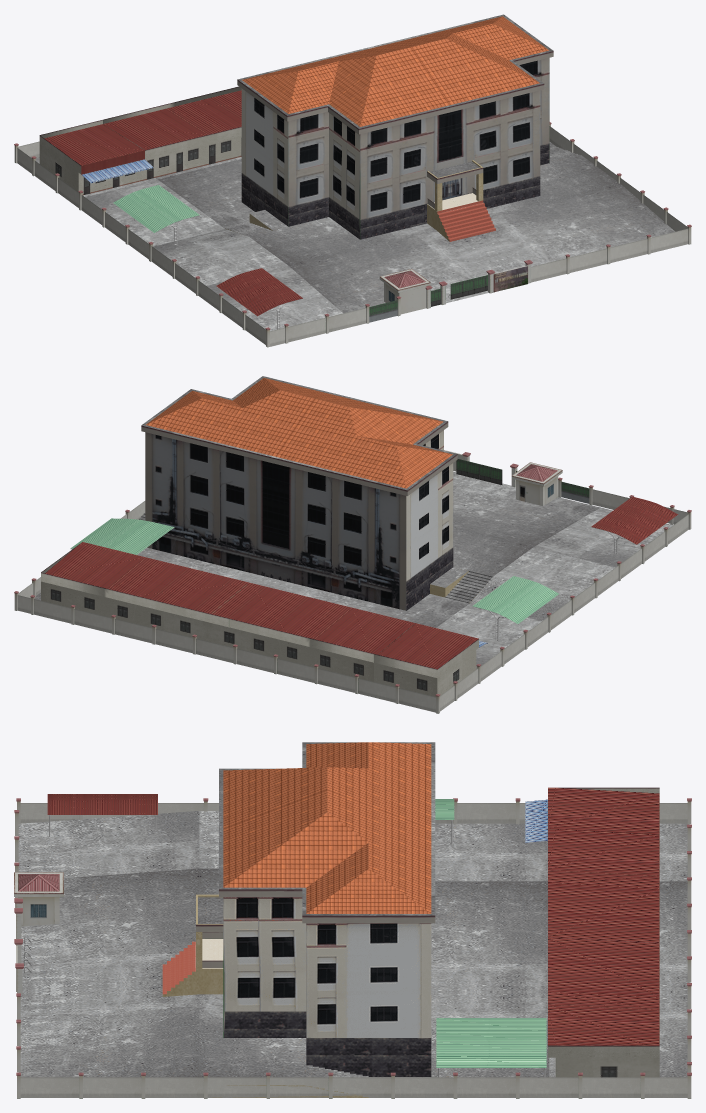
The model's file is So Tai nguyen & Moi truong tinh Binh Phuoc.glb.
3 views of the same model, one above another, from view 1: azimuth 30°, elevation 25°; view 2: azimuth 150°, elevation 25°; view 3: azimuth 270°, elevation 25° (orthographic). The views are drawn at different scales.
Visible parts, largest first — view 1: 1, 2, 3, 2.001; view 2: 1, 2, 3, 2.001; view 3: 1, 2, 3, 2.001.
Boxes of the visible parts, bbox=[...] form: 1: bbox=[36, 14, 674, 331]; 2: bbox=[39, 86, 241, 246]; 3: bbox=[14, 122, 691, 347]; 2.001: bbox=[216, 268, 302, 329]; 1: bbox=[34, 376, 672, 669]; 2: bbox=[41, 518, 558, 696]; 3: bbox=[14, 450, 691, 713]; 2.001: bbox=[591, 496, 677, 554]; 1: bbox=[18, 742, 689, 1097]; 2: bbox=[435, 787, 659, 1077]; 3: bbox=[14, 798, 691, 1098]; 2.001: bbox=[47, 794, 157, 836].
Bounding box in the file's own units: 47.17 × 16.13 × 48.9.
3 materials, 3 textured.
